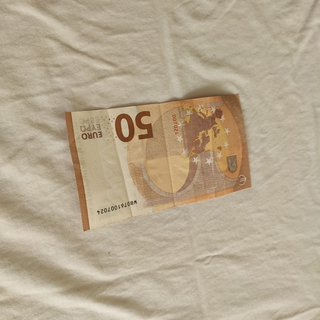50EUROBack: (62, 92, 252, 232)
